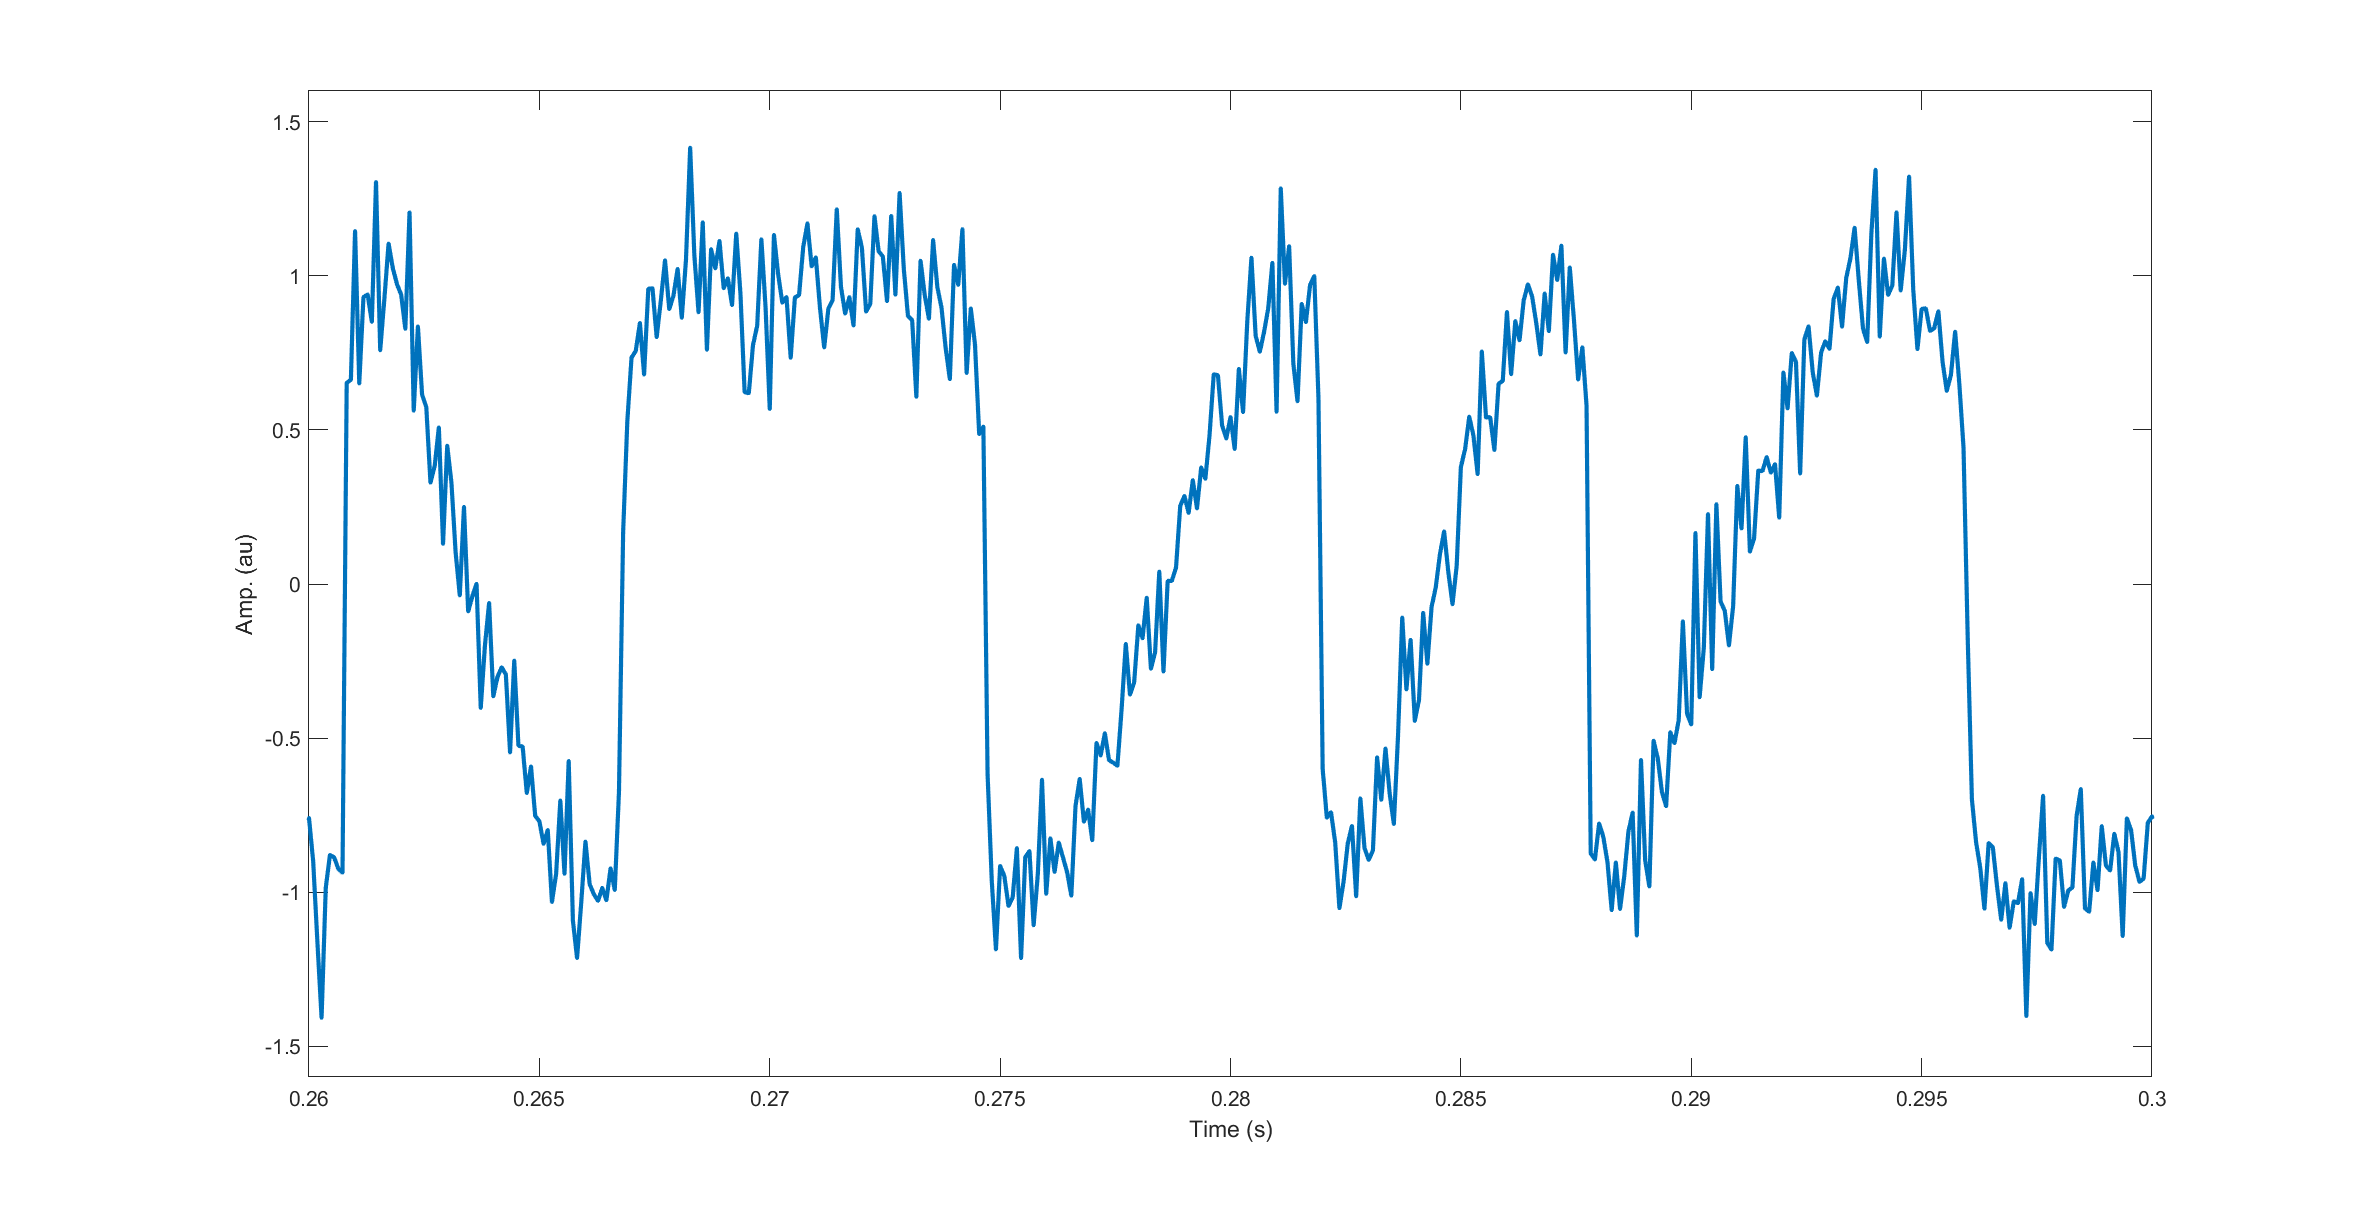negative_fringe: (316, 170, 568, 1012)
positive_fringe: (1616, 130, 1983, 894), (1018, 161, 1346, 958), (1347, 227, 1606, 901)
